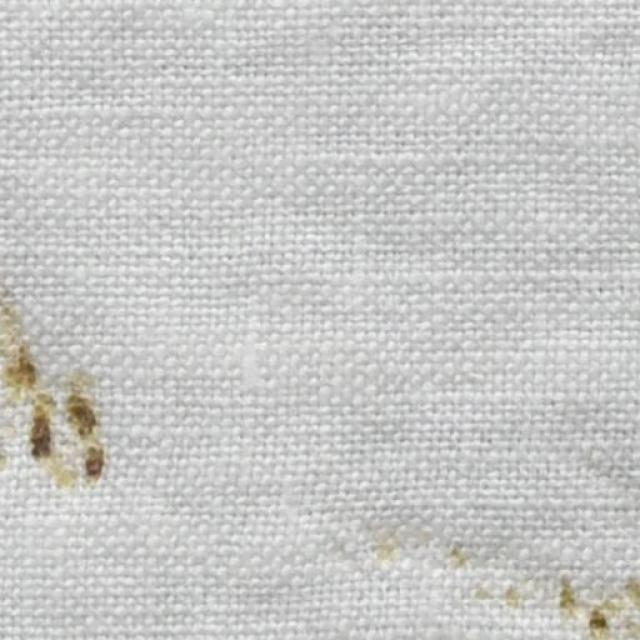Stain: (378, 528, 639, 639), (0, 278, 106, 479)
